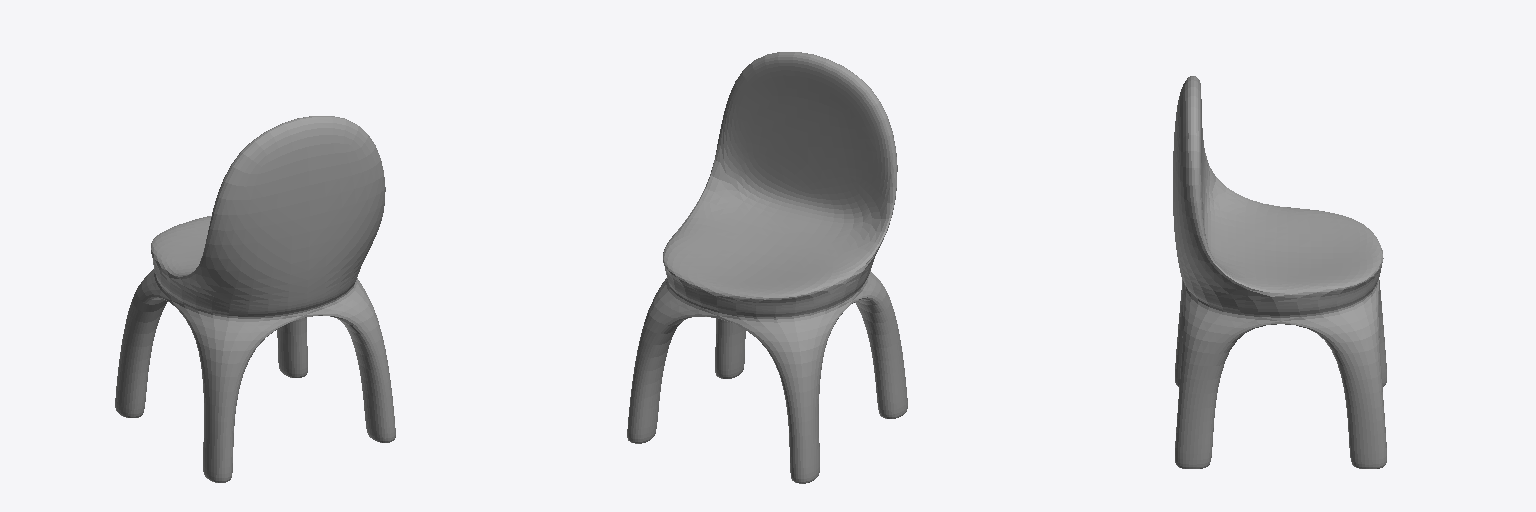
Rendered from chair.obj.
The picture shows the model from 3 angles: view 1: azimuth 30°, elevation 25°; view 2: azimuth 150°, elevation 25°; view 3: azimuth 270°, elevation 25°; orthographic projection.
Parts seen in each view (by area): view 1: Cube.001; view 2: Cube.001; view 3: Cube.001.
Part boxes in pixels (bbox=[...]): Cube.001: bbox=[115, 116, 395, 482]; Cube.001: bbox=[627, 52, 907, 483]; Cube.001: bbox=[1173, 76, 1386, 468].
Bounding box in the file's own units: 1.92 × 3.36 × 1.93.